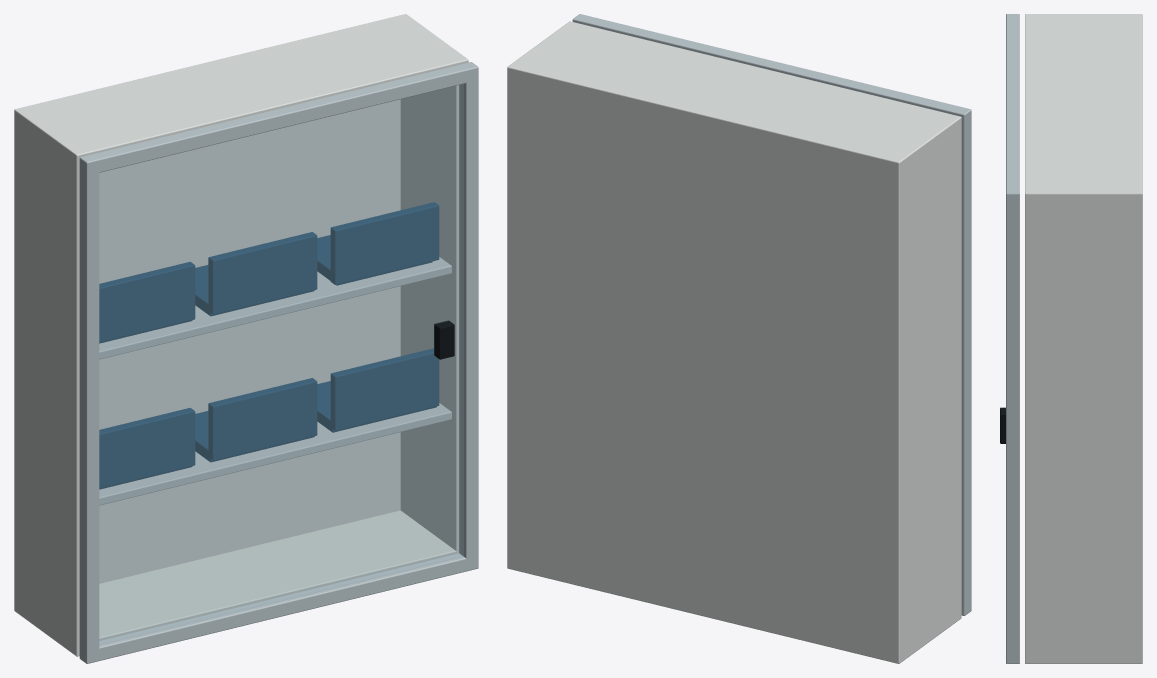
File: edited.glb
3 views of the same model, side by side, from view 1: azimuth 30°, elevation 25°; view 2: azimuth 150°, elevation 25°; view 3: azimuth 270°, elevation 25° (orthographic). The views are drawn at different scales.
Parts seen in each view (by area): view 1: DOOR_Glass, CASE_Back, CASE_Side.001, CASE_Cap, CASE_Side, CASE_Cap.001, DOOR_Frame, DOOR_Frame.001, DOOR_Rail.001, DOOR_Rail, BIN_Front, BIN_Front.002 (+11 smaller); view 2: CASE_Back, CASE_Side.001, CASE_Cap, DOOR_Frame, CASE_Side, DOOR_Rail.001, CASE_Cap.001; view 3: CASE_Side, CASE_Cap, CASE_Back, DOOR_Frame.001, DOOR_Rail.001, CASE_Cap.001.
Boxes of the visible parts, x1,y1,x2,y2 form: DOOR_Glass: (99, 84, 463, 644); CASE_Back: (14, 49, 400, 583); CASE_Side.001: (14, 106, 88, 656); CASE_Cap: (15, 14, 468, 167); CASE_Side: (400, 14, 468, 551); CASE_Cap.001: (76, 510, 458, 656); DOOR_Frame: (79, 154, 99, 663); DOOR_Frame.001: (459, 62, 478, 571); DOOR_Rail.001: (83, 62, 478, 174); DOOR_Rail: (99, 553, 478, 660); BIN_Front: (330, 202, 439, 284); BIN_Front.002: (208, 378, 317, 460); CASE_Back: (507, 62, 906, 663); CASE_Side.001: (887, 114, 961, 663); CASE_Cap: (507, 21, 961, 174); DOOR_Frame: (952, 106, 971, 615); CASE_Side: (507, 21, 569, 571); DOOR_Rail.001: (574, 14, 970, 126); CASE_Cap.001: (507, 556, 961, 663); CASE_Side: (1025, 187, 1142, 663); CASE_Cap: (1025, 14, 1142, 204); CASE_Back: (1129, 14, 1142, 663); DOOR_Frame.001: (1006, 187, 1019, 663); DOOR_Rail.001: (1006, 14, 1019, 192); CASE_Cap.001: (1025, 652, 1142, 663).
Bounding box in the file's own units: 0.9 × 1.1 × 0.3025.
